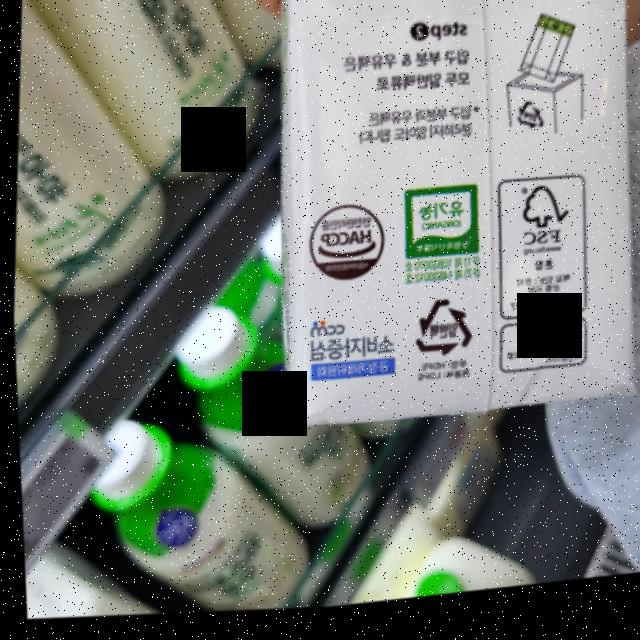NormalPack: (407, 300, 475, 370)
